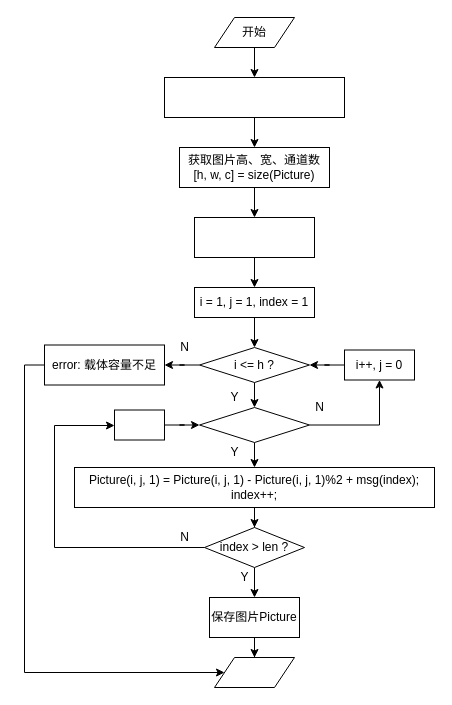
The diagram is 452 pixels wide and 705 high, and some of its shapes have lost their labels. Here are the shapes that lost their labels. From the top down, the box of each, then its label:
(164, 76, 344, 118): 读取图片 Picture = imread('cover.bmp')
(194, 216, 314, 258): 需要写入信息的二进制流msg和长度len
(114, 409, 164, 440): j++
(198, 406, 310, 442): j <= w ?
(214, 656, 294, 688): 结束
